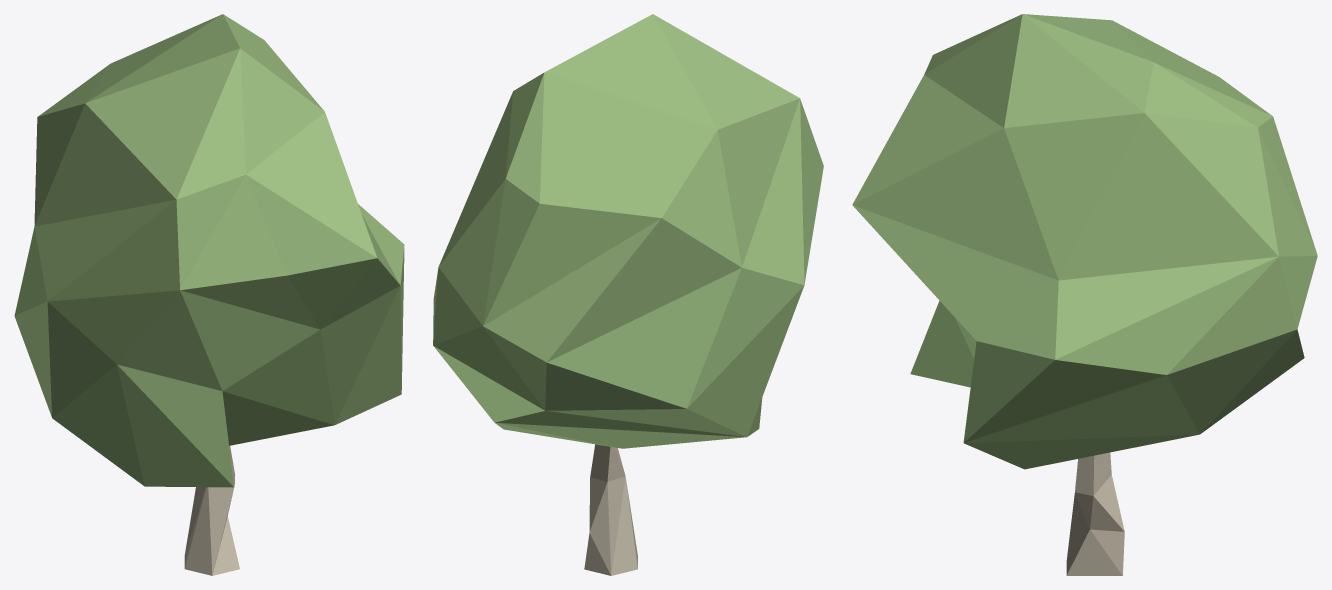
File: PlatanusOccidentalis.glb
3 renders of one model, left to right at view 1: azimuth 30°, elevation 25°; view 2: azimuth 150°, elevation 25°; view 3: azimuth 270°, elevation 25°, orthographic. The views are drawn at different scales.
Visible parts, largest first — view 1: Crown, Trunk; view 2: Crown, Trunk; view 3: Crown, Trunk.
Boxes of the visible parts, left/top/right/bottom form: Crown: left=14, top=14, right=404, bottom=487; Trunk: left=184, top=446, right=239, bottom=575; Crown: left=433, top=14, right=823, bottom=448; Trunk: left=584, top=444, right=637, bottom=575; Crown: left=852, top=14, right=1317, bottom=469; Trunk: left=1066, top=452, right=1124, bottom=575.
Bounding box in the file's own units: 19.22 × 28.05 × 21.47.
